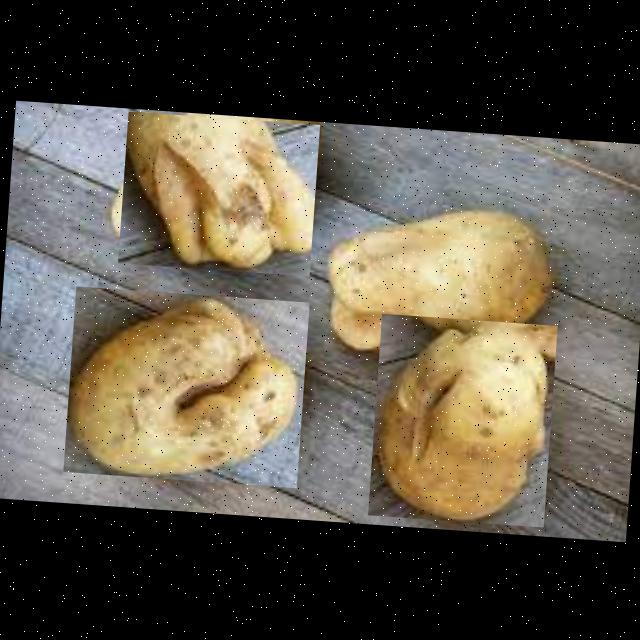Damaged potato: (62, 284, 308, 487), (314, 180, 562, 344), (366, 312, 556, 526), (116, 110, 318, 275)
